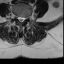CCS_normal: (19, 14, 22, 24)
LFS_normal: (25, 15, 28, 21)
LLS_normal: (22, 15, 25, 22)
RFS_normal: (15, 13, 18, 20)
RLS_normal: (17, 15, 20, 22)
